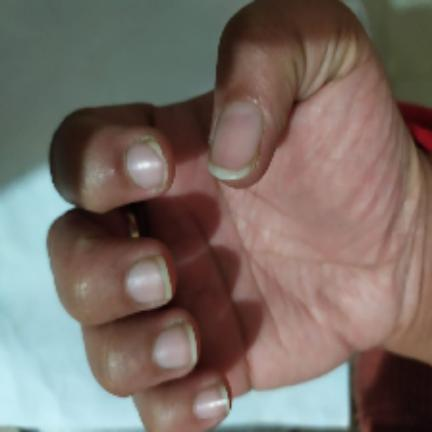Nail: (209, 100, 263, 180), (124, 135, 169, 193), (125, 256, 173, 304), (153, 321, 197, 369), (192, 383, 230, 419)
